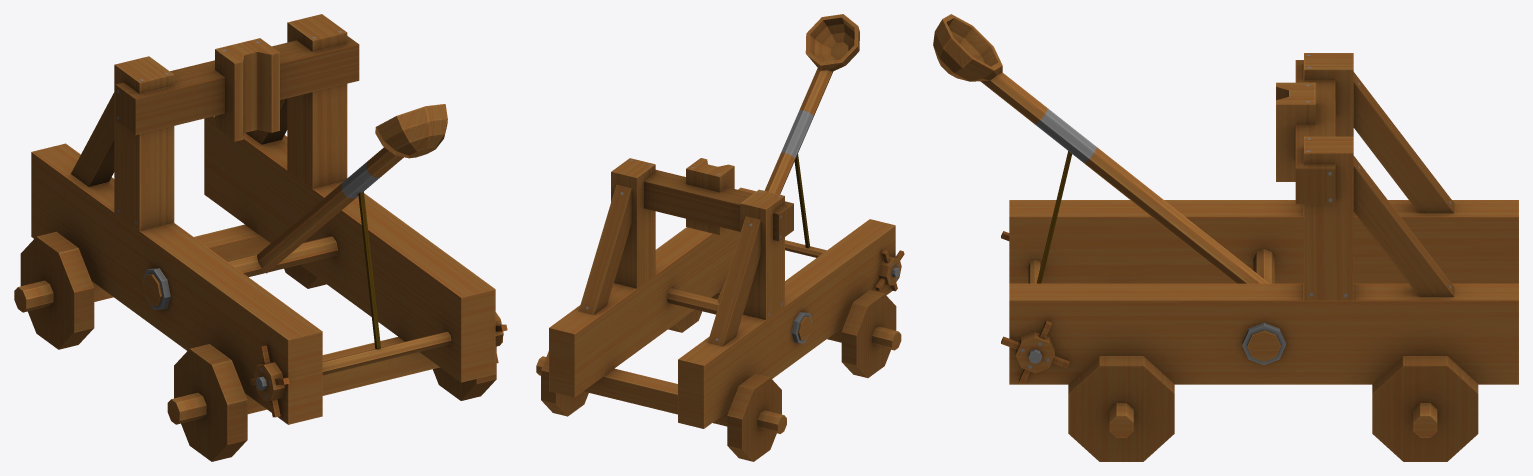
Rendered from catapult_a.glb.
3 views of the same model, side by side, from view 1: azimuth 30°, elevation 25°; view 2: azimuth 150°, elevation 25°; view 3: azimuth 270°, elevation 25° (orthographic). The views are drawn at different scales.
Parts seen in each view (by area): view 1: Catapult_mesh; view 2: Catapult_mesh; view 3: Catapult_mesh.
Boxes of the visible parts, x1,y1,x2,y2 form: Catapult_mesh: [14, 14, 507, 461]; Catapult_mesh: [536, 14, 904, 461]; Catapult_mesh: [933, 14, 1518, 461].
Size of the model in its own units: 3.16 by 3.56 by 5.
Materials: 1 (1 with a texture image).
